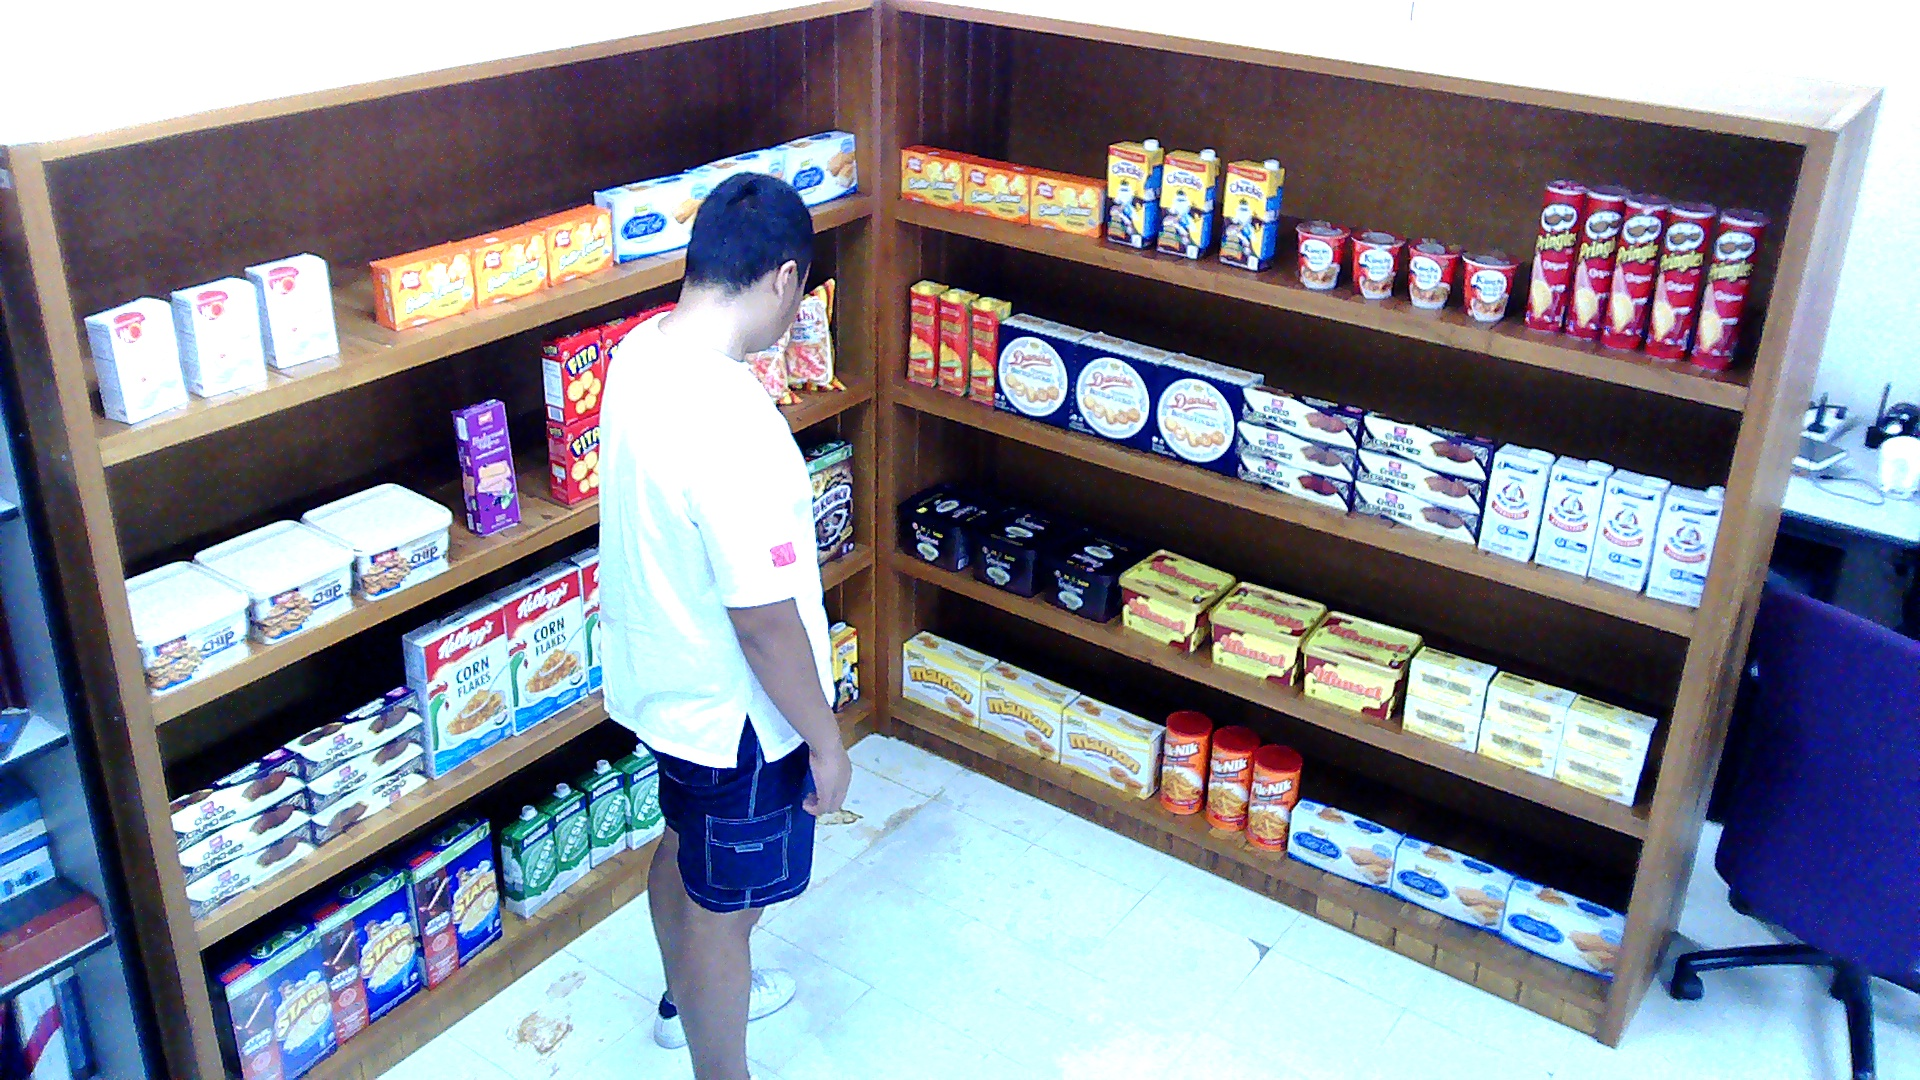Bear brand: (1587, 468, 1671, 592), (1647, 484, 1725, 608), (1536, 454, 1614, 573), (1476, 443, 1554, 560)
Buttercake: (1500, 875, 1626, 981), (1389, 834, 1515, 933), (1286, 796, 1403, 893), (594, 171, 708, 263), (764, 128, 857, 207)
Butterlicious: (368, 241, 473, 329), (452, 222, 545, 308), (525, 202, 612, 285), (960, 155, 1041, 223), (1029, 168, 1107, 236), (900, 144, 978, 209)
Camomille: (1407, 644, 1497, 716), (1485, 673, 1575, 743), (1554, 747, 1638, 803), (1401, 695, 1479, 751), (1479, 722, 1557, 778)
Choco Crunchies: (168, 747, 306, 853), (183, 819, 315, 920), (282, 683, 420, 780), (177, 787, 309, 884), (306, 725, 423, 815), (312, 754, 426, 846), (1359, 409, 1503, 479), (1356, 449, 1485, 512), (1242, 382, 1368, 447), (1353, 483, 1479, 542), (1236, 420, 1356, 479), (1236, 455, 1353, 511)
Chocolate Chips: (191, 520, 350, 644), (296, 483, 449, 600), (123, 560, 246, 695), (1562, 695, 1655, 769)
Chuckie: (1218, 157, 1284, 270), (1158, 149, 1218, 259), (1106, 137, 1163, 247), (828, 621, 858, 711)
Danisa: (1149, 353, 1263, 477), (1068, 330, 1176, 449), (993, 310, 1092, 427)
Fita: (539, 323, 602, 422), (543, 414, 597, 504)
Fresh Milk: (498, 803, 555, 918), (534, 780, 588, 893), (612, 740, 666, 848), (573, 758, 627, 866)
Grahams: (1035, 529, 1143, 621), (900, 481, 1005, 571), (966, 506, 1071, 594)
Hansel: (1299, 610, 1422, 720), (1206, 580, 1326, 683), (1116, 549, 1236, 650)
Head: (672, 170, 813, 359)
Honey Stars: (290, 862, 419, 1046), (204, 918, 336, 1078), (387, 812, 501, 988)
Kellogg Corn Flakes: (399, 593, 510, 780), (485, 560, 584, 736)
Kimchi Noodles: (1461, 248, 1521, 320), (1406, 236, 1463, 308), (1350, 227, 1404, 299), (1296, 218, 1350, 288)
Koko Krunch: (801, 437, 855, 567)
Locally Mango: (966, 297, 1011, 405), (936, 288, 978, 396), (906, 279, 948, 385)
Mamon: (1062, 695, 1164, 798), (981, 659, 1080, 760), (899, 629, 998, 726)
Oishi Prawn: (786, 276, 846, 389)
Pik-nik: (1244, 745, 1301, 851), (1206, 724, 1260, 830), (1158, 711, 1212, 814)
Pringles: (1689, 207, 1767, 369), (1644, 198, 1716, 360), (1599, 191, 1671, 351), (1563, 182, 1629, 337), (1523, 177, 1586, 330)
Wafer: (450, 398, 519, 535)
iHop: (80, 297, 185, 423), (171, 276, 267, 395), (243, 251, 339, 366)
